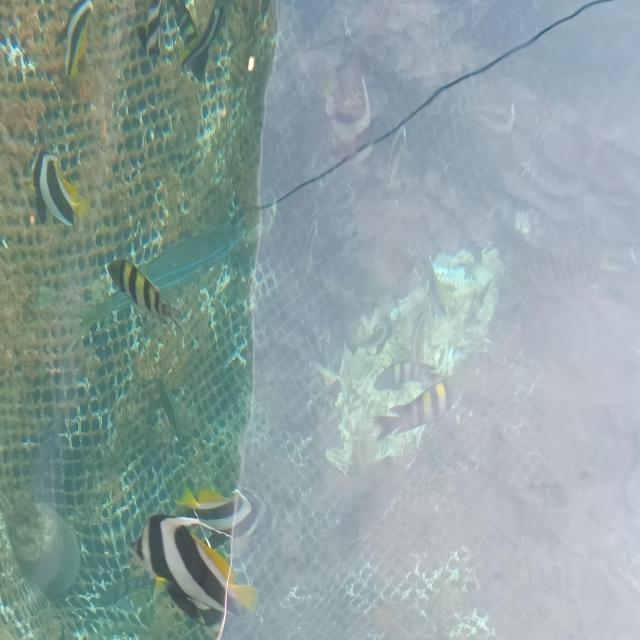ikan: (89, 226, 178, 328), (27, 144, 81, 240)
